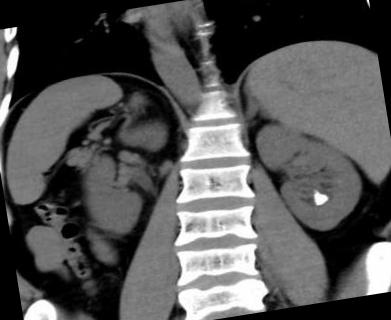Tas_Var: (306, 186, 333, 208)
